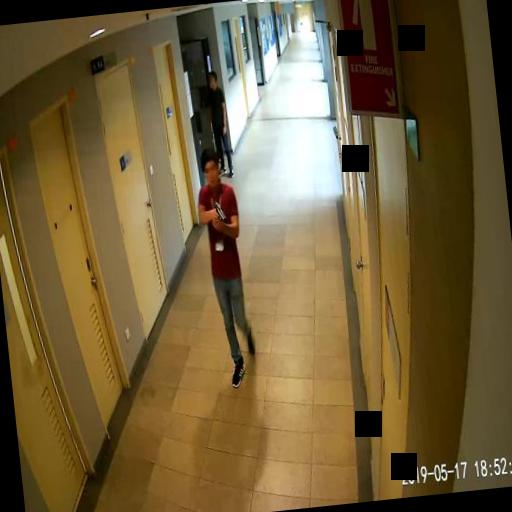Handgun: (212, 201, 226, 226)
